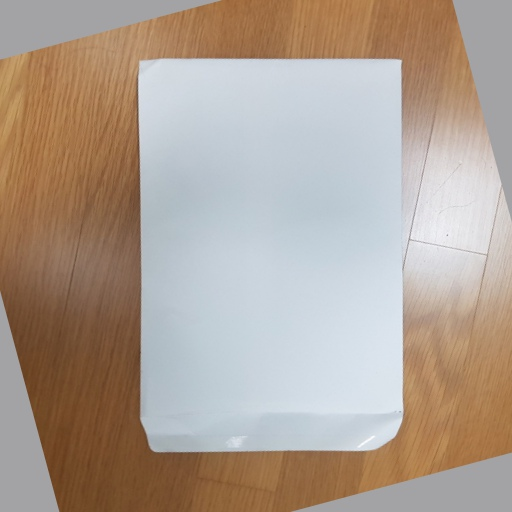Paper_2: (131, 51, 407, 459)
